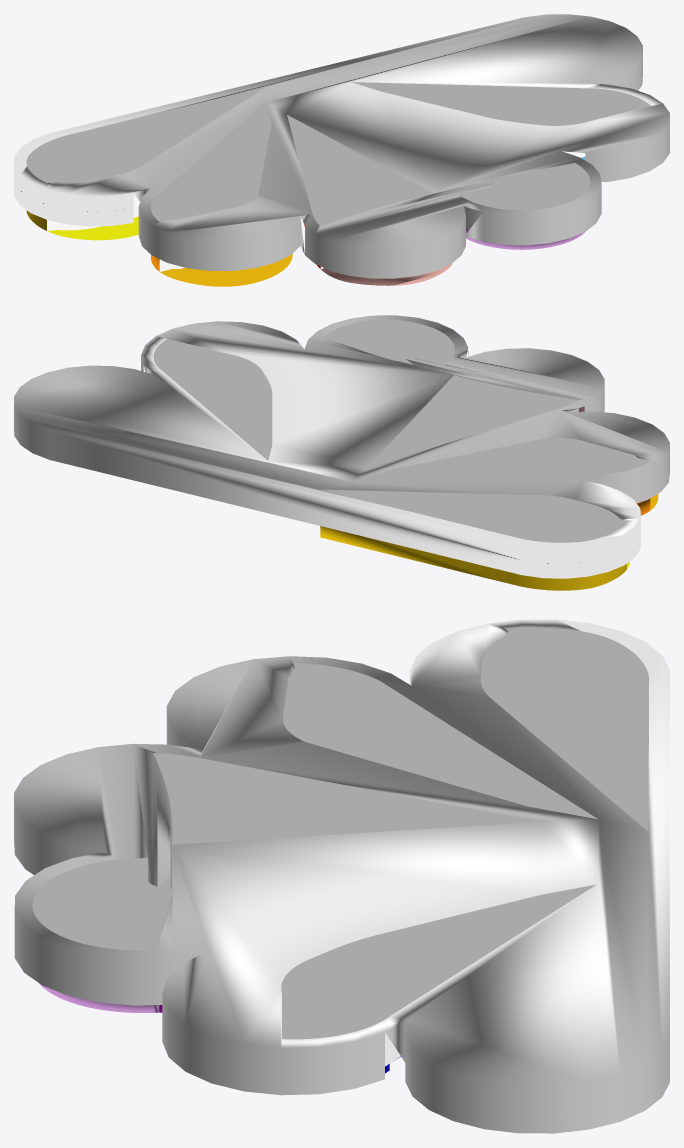
File: NBCPeacock.gltf
3 renders of one model, top to bottom at view 1: azimuth 30°, elevation 25°; view 2: azimuth 150°, elevation 25°; view 3: azimuth 270°, elevation 25°, orthographic. The views are drawn at different scales.
Parts seen in each view (by area): view 1: NBCPeacock; view 2: NBCPeacock; view 3: NBCPeacock.
Boxes of the visible parts, x1,y1,x2,y2 form: NBCPeacock: (14, 14, 669, 286); NBCPeacock: (14, 315, 669, 590); NBCPeacock: (14, 619, 669, 1133).
Bounding box in the file's own units: 434651 × 34222 × 258076.
